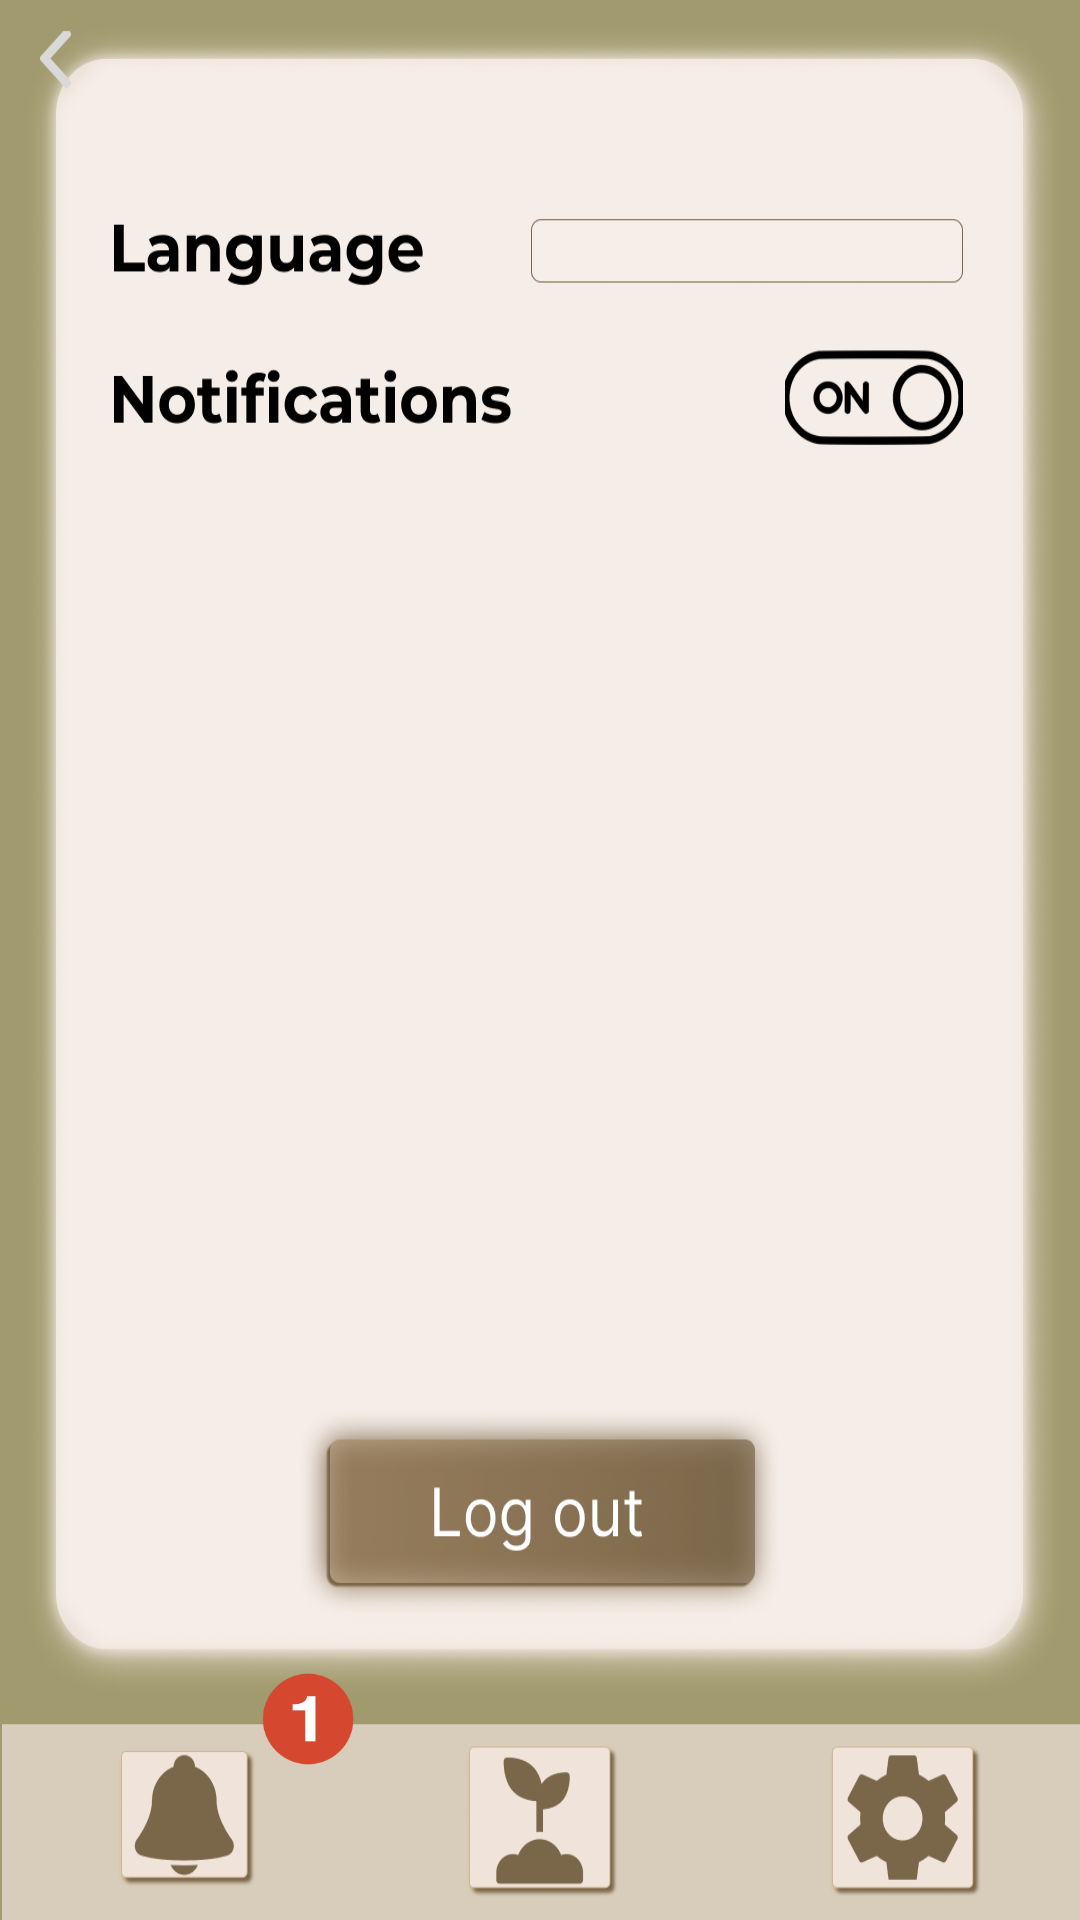

Screen size 1080*1920. Icon name, then its center in pixels as (x=x, y=y):
number: (x=309, y=1719)
